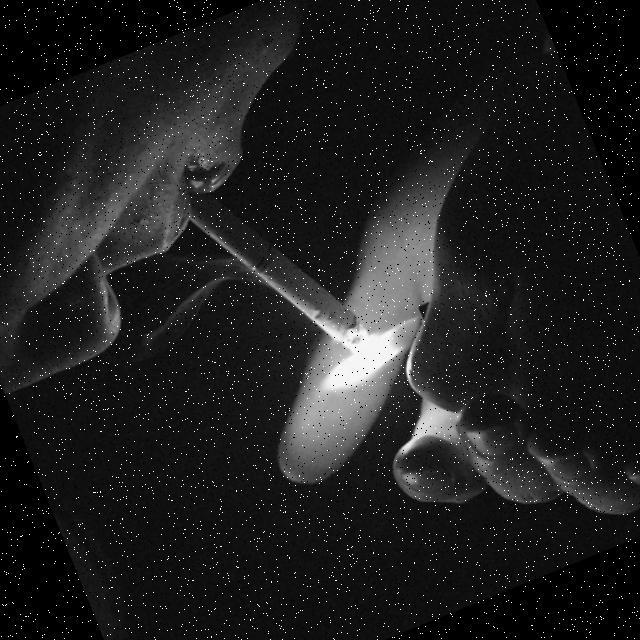cigarette: (173, 151, 382, 406)
